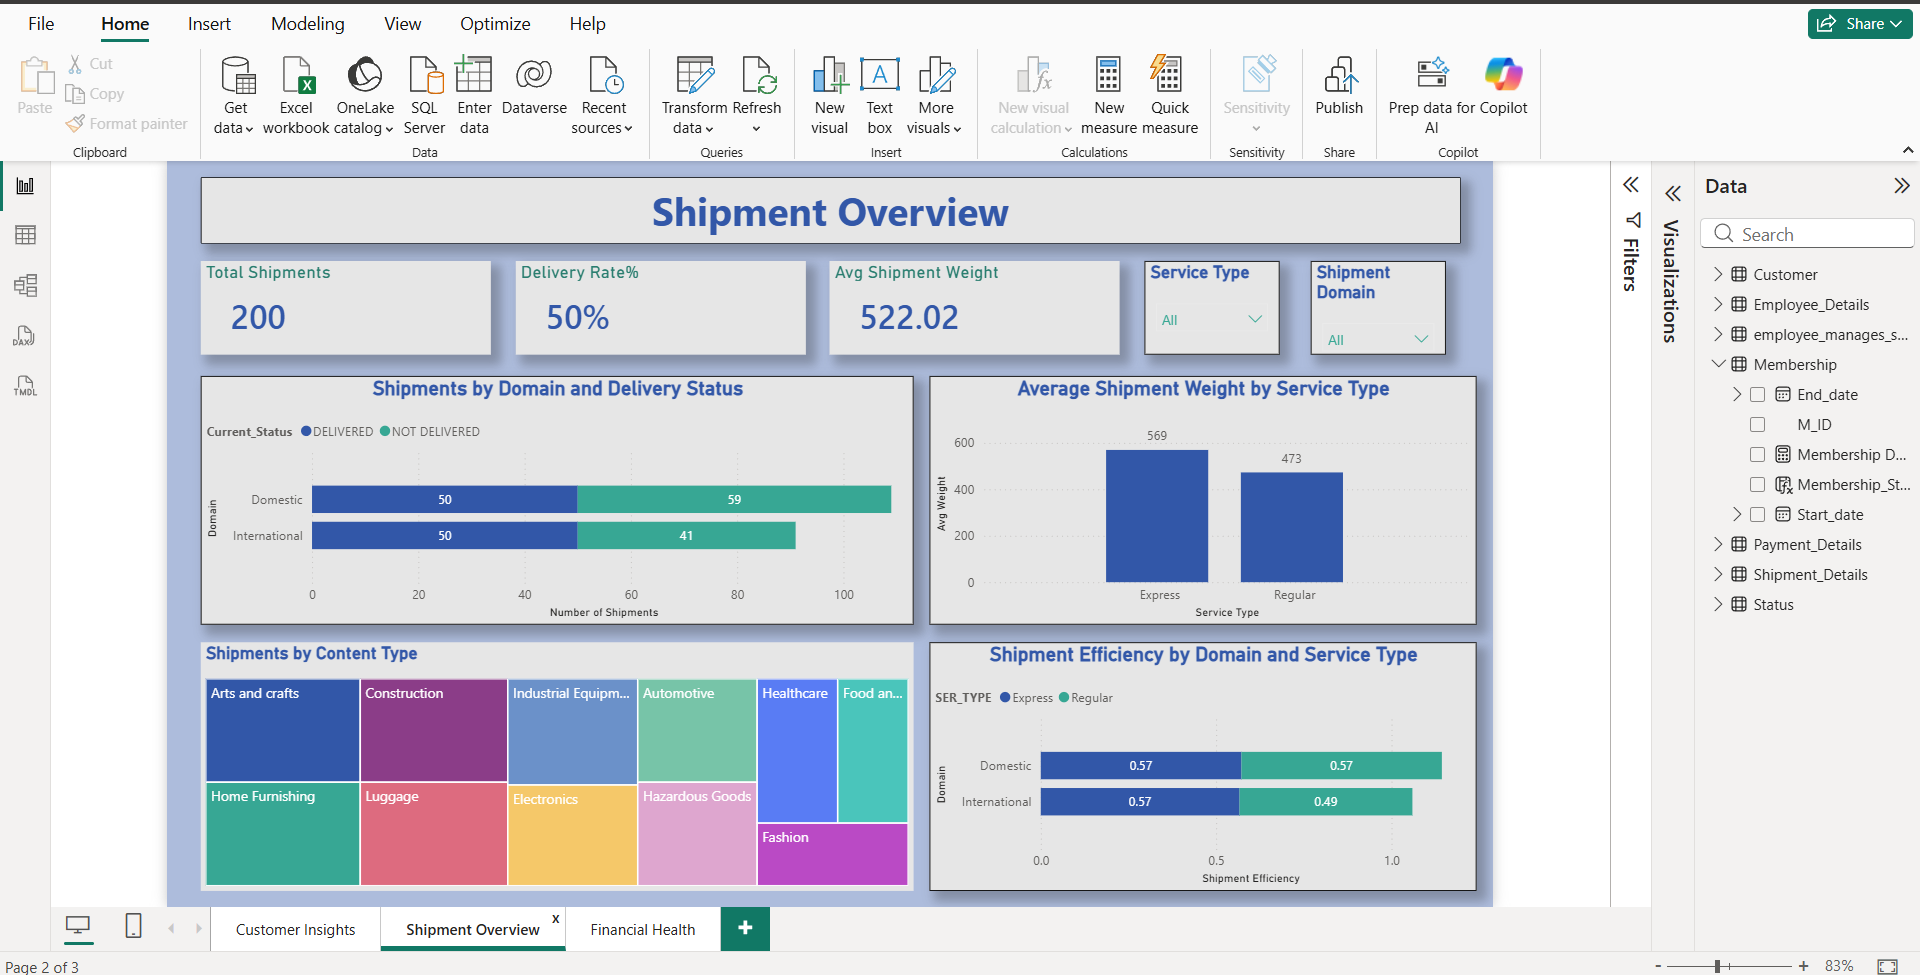

What the dashboard file says about the page in this screenshot:
{"tool":"powerbi","page":{"name":"Shipment Overview","canvas":[1280,720],"ordinal":1},"visuals":[{"type":"textbox","box":[32,16,1216,64],"z":0},{"type":"cardVisual","title":"Total Shipments","fields":{"Data":["Shipment_Details.Total Shipments"]},"box":[32,96,280,90],"z":1000},{"type":"cardVisual","title":"Delivery Rate%","fields":{"Data":["Status.Delivery Rate %"]},"box":[336,96,280,90],"z":2000},{"type":"cardVisual","title":"Avg Shipment Weight","fields":{"Data":["Shipment_Details.Avg Shipment Weight"]},"box":[640,96,280,90],"z":3000},{"type":"barChart","title":"Shipments by Domain and Delivery Status","fields":{"Category":["Shipment_Details.SH_DOMAIN"],"Series":["Status.Current_Status"],"Y":["CountNonNull(Shipment_Details.SH_ID)"]},"box":[32,208,688,240],"z":4000},{"type":"columnChart","title":"Average Shipment Weight by Service Type","fields":{"Category":["Shipment_Details.SER_TYPE"],"Y":["Avg(Shipment_Details.SH_WEIGHT)"]},"box":[736,208,528,240],"z":5000},{"type":"slicer","title":"Shipment Domain","fields":{"Values":["Shipment_Details.SH_DOMAIN"]},"box":[1104,96,130,90],"z":6000},{"type":"slicer","title":"Service Type","fields":{"Values":["Shipment_Details.SER_TYPE"]},"box":[944,96,130,90],"z":7000},{"type":"barChart","title":"Shipment Efficiency by Domain and Service Type","fields":{"Category":["Shipment_Details.SH_DOMAIN"],"Series":["Shipment_Details.SER_TYPE"],"Y":["Shipment_Details.Shipment Efficiency"]},"box":[736,464,528,240],"z":8000},{"type":"treemap","title":"Shipments by Content Type","fields":{"Group":["Shipment_Details.SH_CONTENT"],"Values":["CountNonNull(Shipment_Details.SH_ID)"]},"box":[32,464,688,240],"z":9000}]}

Visuals, with their boxes on the page's 1280x720 design canvas (x1, y1, x2, y2). These are canvas units, not pixel positions in the 1920x975 screenshot, which may show the page scaled, cropped or inside an application window:
textbox: locate(32, 16, 1248, 80)
"Total Shipments" cardVisual: locate(32, 96, 312, 186)
"Delivery Rate%" cardVisual: locate(336, 96, 616, 186)
"Avg Shipment Weight" cardVisual: locate(640, 96, 920, 186)
"Shipments by Domain and Delivery Status" barChart: locate(32, 208, 720, 448)
"Average Shipment Weight by Service Type" columnChart: locate(736, 208, 1264, 448)
"Shipment Domain" slicer: locate(1104, 96, 1234, 186)
"Service Type" slicer: locate(944, 96, 1074, 186)
"Shipment Efficiency by Domain and Service Type" barChart: locate(736, 464, 1264, 704)
"Shipments by Content Type" treemap: locate(32, 464, 720, 704)
